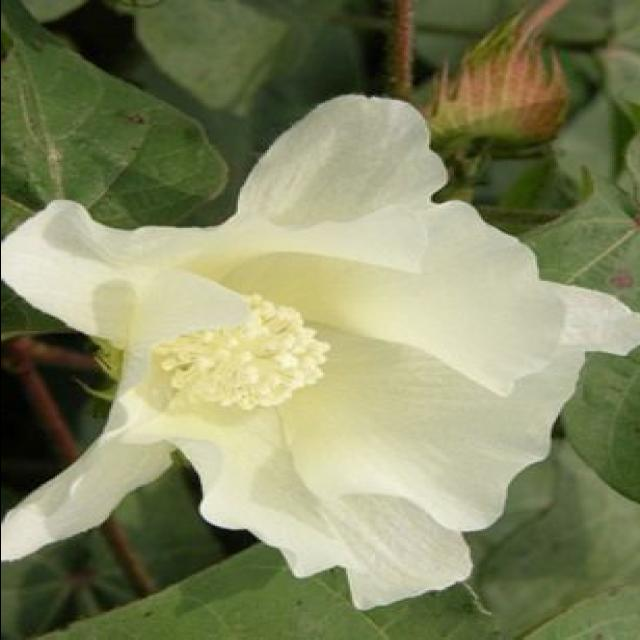Cotton Blossom: (4, 129, 598, 572)
Cotton Bud: (418, 28, 580, 142)
